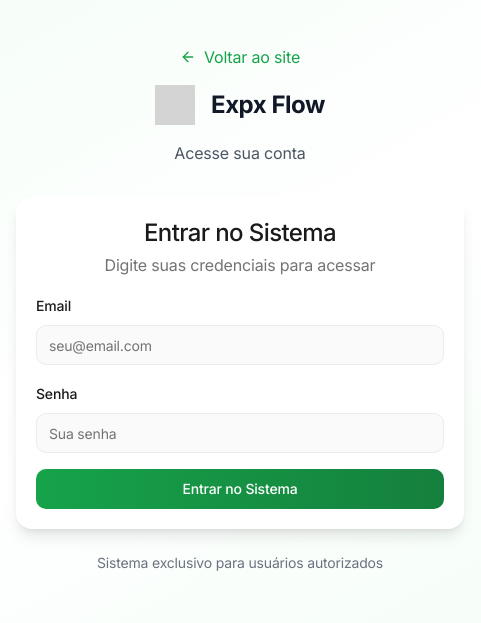
Scenario: AuthPage › deve tratar erro de login corretamente
Type "test@test.com" into the field labelled "Email" at (240, 345), box [36, 325, 444, 365]
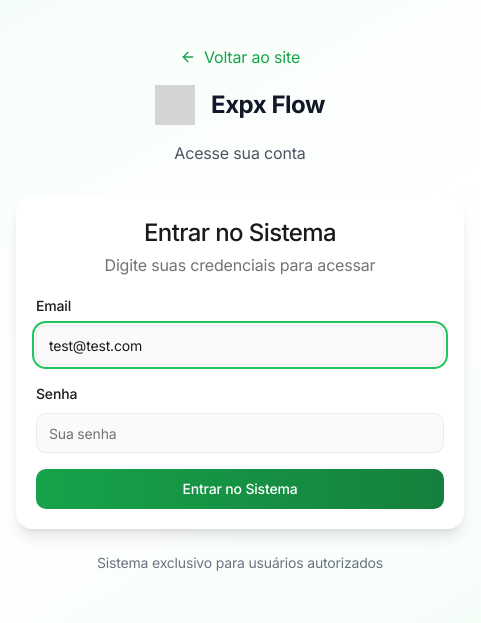
Type "wrong" into the password field labelled "Senha" at (240, 433), box [36, 413, 444, 453]
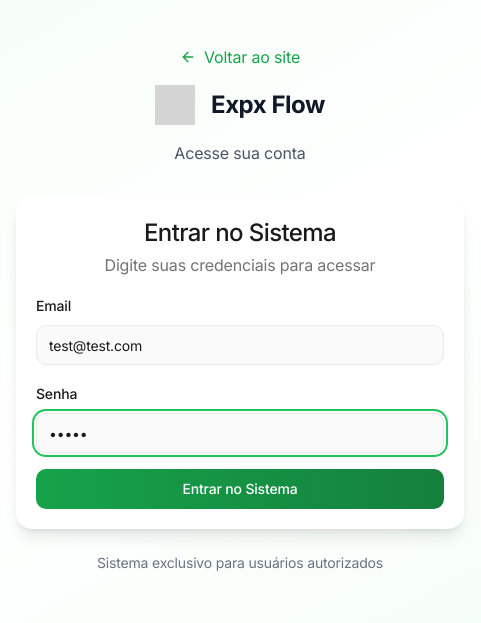
Click the button "Entrar no Sistema" at (240, 489), box [36, 469, 444, 509]
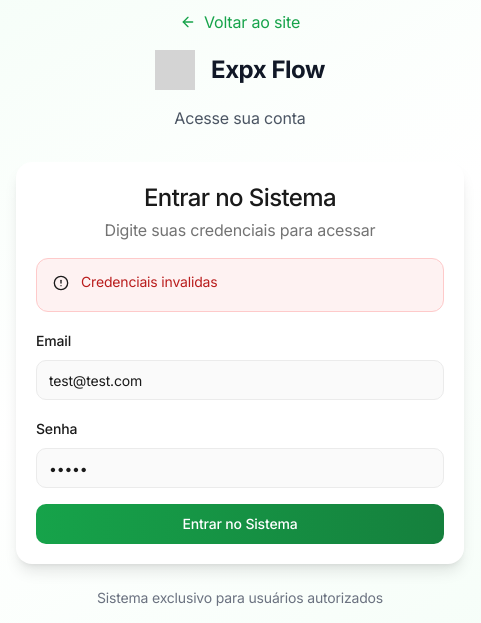
Expected: the text "Credenciais invalidas" is shown, [81, 273, 217, 290]
